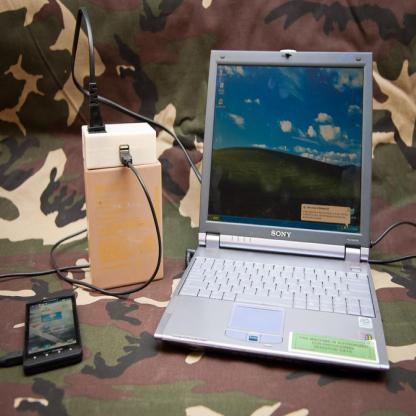board: (151, 46, 391, 370)
